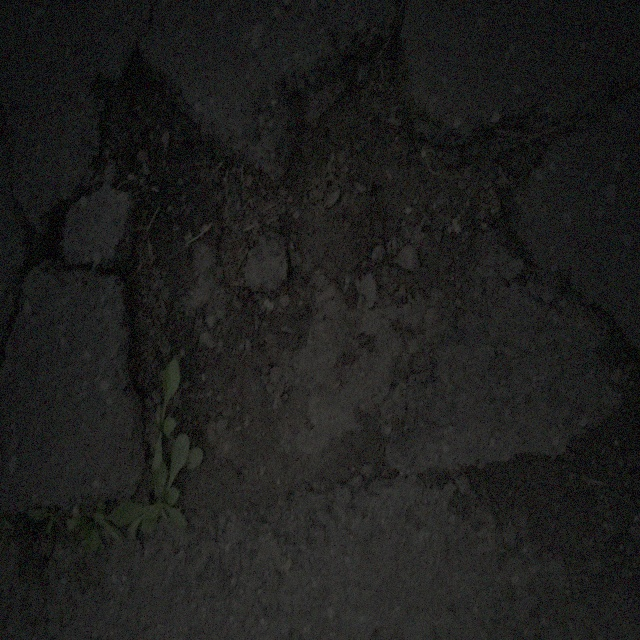pothole: (94, 41, 617, 514)
